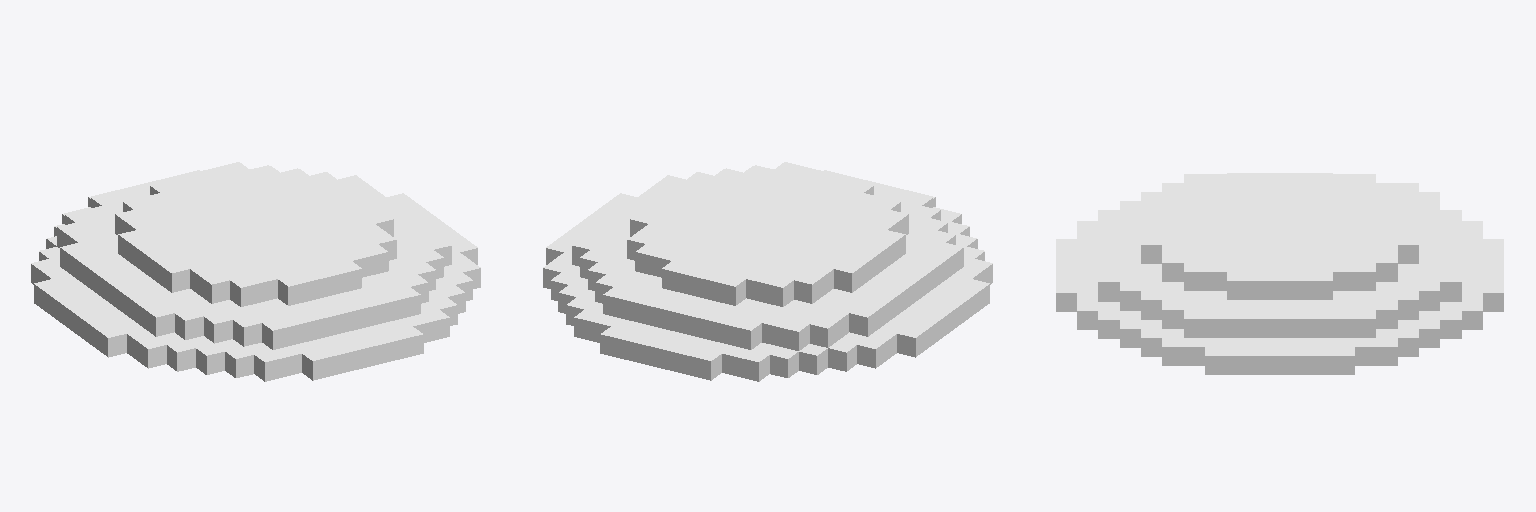
File: escudo_de_capitan_america.obj
The picture shows the model from 3 angles: view 1: azimuth 30°, elevation 25°; view 2: azimuth 150°, elevation 25°; view 3: azimuth 270°, elevation 25°; orthographic projection.
Visible parts, largest first — view 1: object 1; view 2: object 1; view 3: object 1.
Boxes of the visible parts, box(x1,y1,x2,y2) form: object 1: box(31, 162, 480, 381); object 1: box(543, 162, 992, 381); object 1: box(1056, 173, 1503, 374).
Size of the model in its own units: 2 by 0.3 by 2.1.